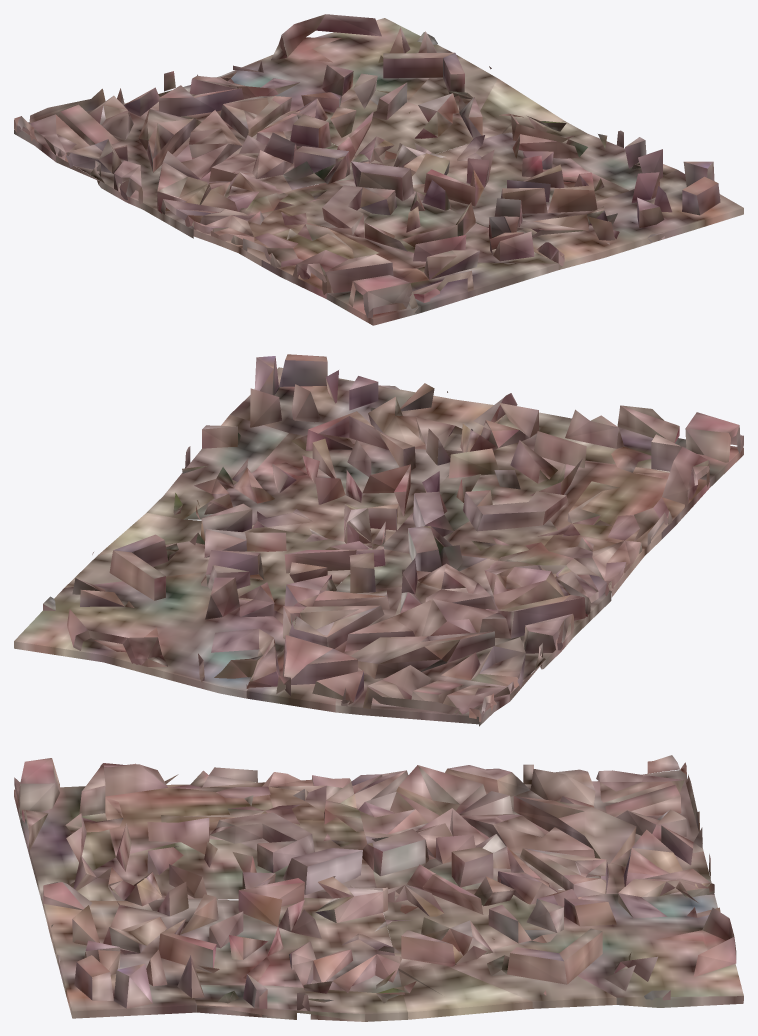
3 renders of one model, top to bottom at view 1: azimuth 30°, elevation 25°; view 2: azimuth 150°, elevation 25°; view 3: azimuth 270°, elevation 25°, orthographic. The views are drawn at different scales.
Parts seen in each view (by area): view 1: Mesh_0; view 2: Mesh_0; view 3: Mesh_0.
Part boxes in pixels (bbox=[...]): Mesh_0: bbox=[14, 14, 743, 325]; Mesh_0: bbox=[14, 354, 743, 726]; Mesh_0: bbox=[14, 755, 743, 1021].
Bounding box in the file's own units: 532 × 66.7 × 659.
2 materials, 2 textured.
